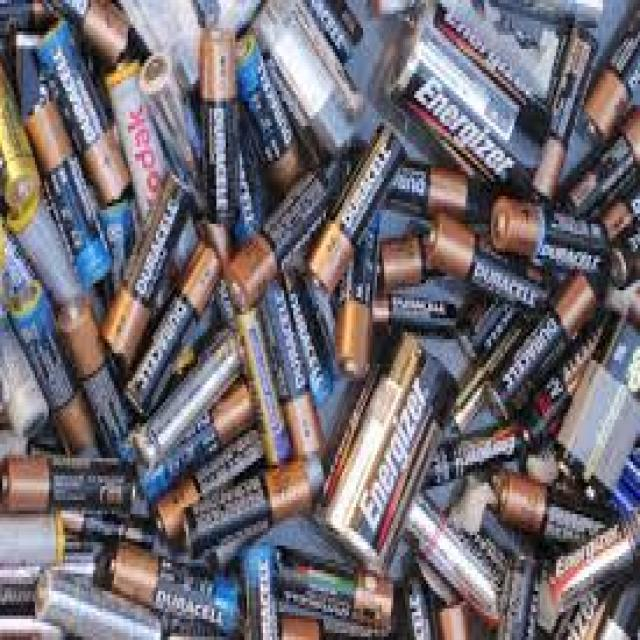battery: (314, 328, 458, 578), (384, 2, 554, 198), (478, 272, 600, 432), (100, 166, 195, 366), (306, 124, 406, 298), (132, 322, 246, 469), (227, 168, 332, 310), (182, 454, 312, 562), (400, 488, 503, 624), (50, 294, 134, 456), (495, 467, 620, 557), (0, 448, 141, 524), (488, 192, 610, 278), (549, 507, 640, 620), (196, 21, 241, 222)
